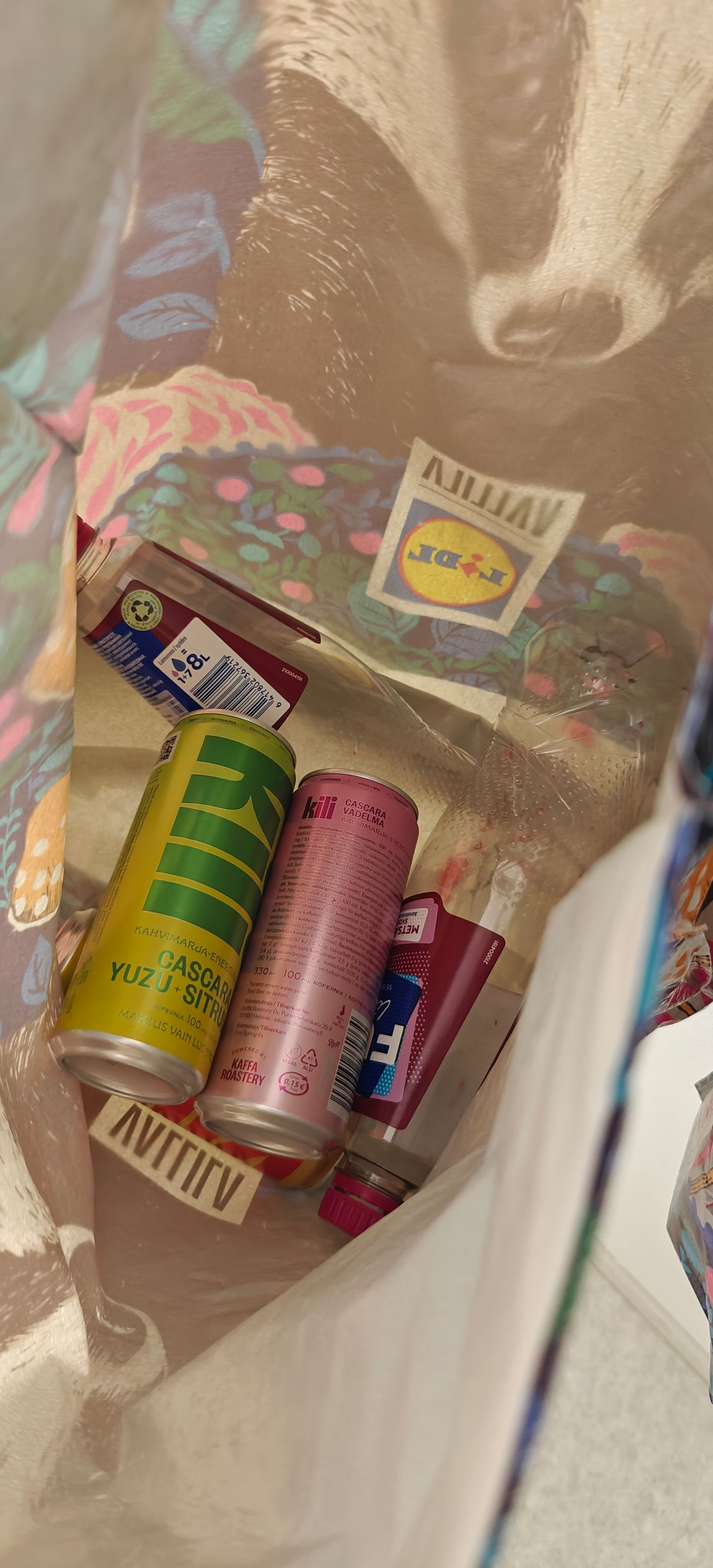Pantburk: (48, 708, 297, 1106), (194, 769, 418, 1161)
